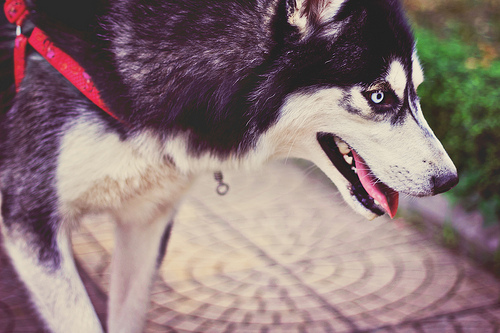dog: (3, 0, 460, 332)
